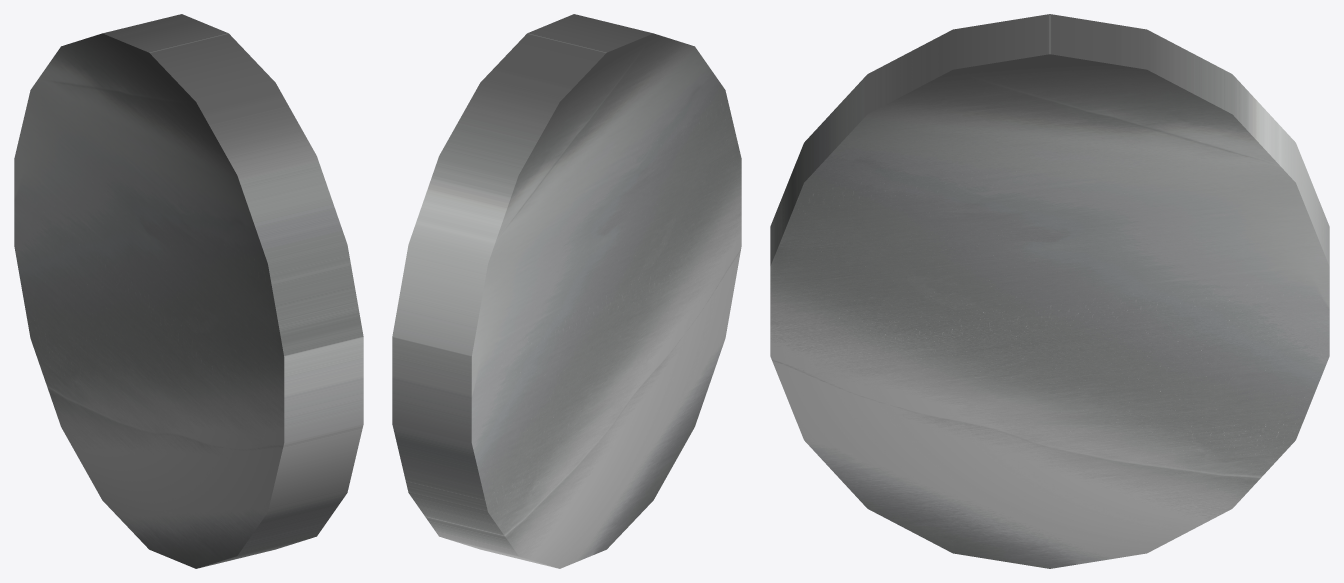
The model's file is Magnet_Cylinder.FBX.
3 renders of one model, left to right at view 1: azimuth 30°, elevation 25°; view 2: azimuth 150°, elevation 25°; view 3: azimuth 270°, elevation 25°, orthographic. The views are drawn at different scales.
Visible parts, largest first — view 1: Cylinder001; view 2: Cylinder001; view 3: Cylinder001.
Part boxes in pixels (bbox=[...]): Cylinder001: bbox=[14, 14, 363, 568]; Cylinder001: bbox=[392, 14, 741, 568]; Cylinder001: bbox=[770, 14, 1329, 568].
Bounding box in the file's own units: 17.07 × 100 × 102.
1 material, 1 textured.
